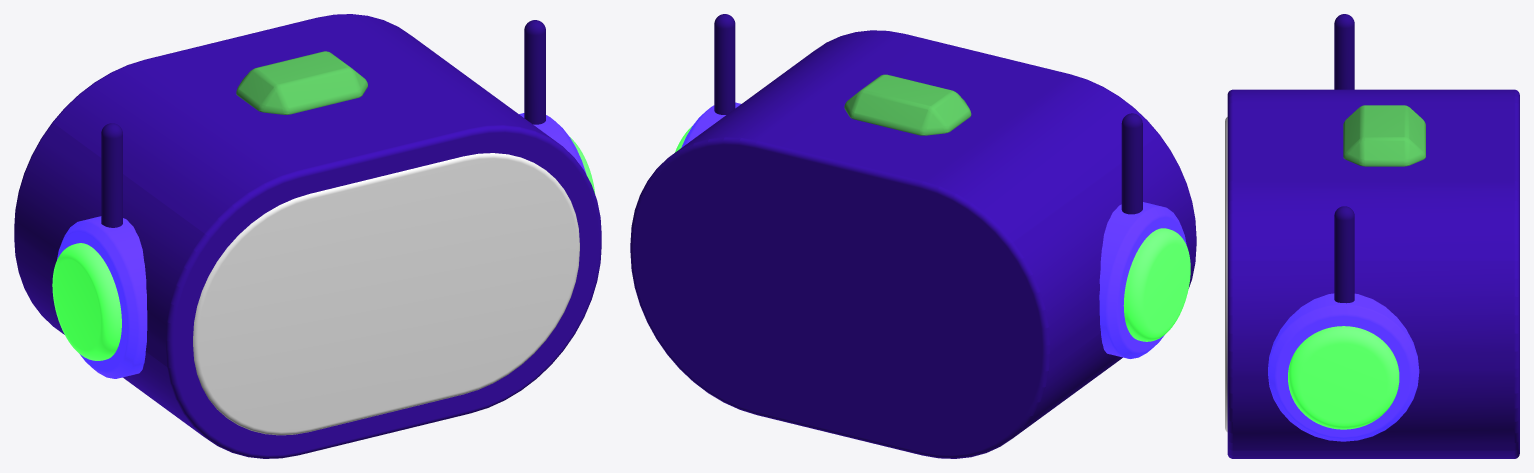
File: bot-drafts1.gltf
The picture shows the model from 3 angles, left to right: view 1: azimuth 30°, elevation 25°; view 2: azimuth 150°, elevation 25°; view 3: azimuth 270°, elevation 25°; orthographic projection. The views are drawn at different scales.
Parts seen in each view (by area): view 1: Cube001, Cube001_1, Cylinder, Cylinder001, Cube002, Cylinder002; view 2: Cube001, Cylinder, Cylinder001, Cube002, Cylinder002; view 3: Cube001, Cylinder001, Cylinder, Cube002, Cylinder002, Cube001_1.
Boxes of the visible parts, left/top/right/bottom form: Cube001: left=14, top=14, right=601, bottom=458; Cube001_1: left=193, top=153, right=579, bottom=435; Cylinder: left=57, top=113, right=586, bottom=378; Cylinder001: left=52, top=137, right=595, bottom=360; Cube002: left=236, top=51, right=367, bottom=114; Cylinder002: left=101, top=20, right=545, bottom=227; Cube001: left=630, top=30, right=1196, bottom=458; Cylinder: left=681, top=102, right=1186, bottom=358; Cylinder001: left=675, top=126, right=1190, bottom=341; Cube002: left=844, top=74, right=971, bottom=135; Cylinder002: left=714, top=14, right=1142, bottom=214; Cube001: left=1227, top=89, right=1519, bottom=458; Cylinder001: left=1288, top=326, right=1399, bottom=429; Cylinder: left=1268, top=293, right=1419, bottom=441; Cube002: left=1343, top=105, right=1425, bottom=166; Cylinder002: left=1334, top=14, right=1354, bottom=303; Cube001_1: left=1225, top=117, right=1227, bottom=432.
Bounding box in the file's own units: 3.63 × 2.35 × 2.02.
